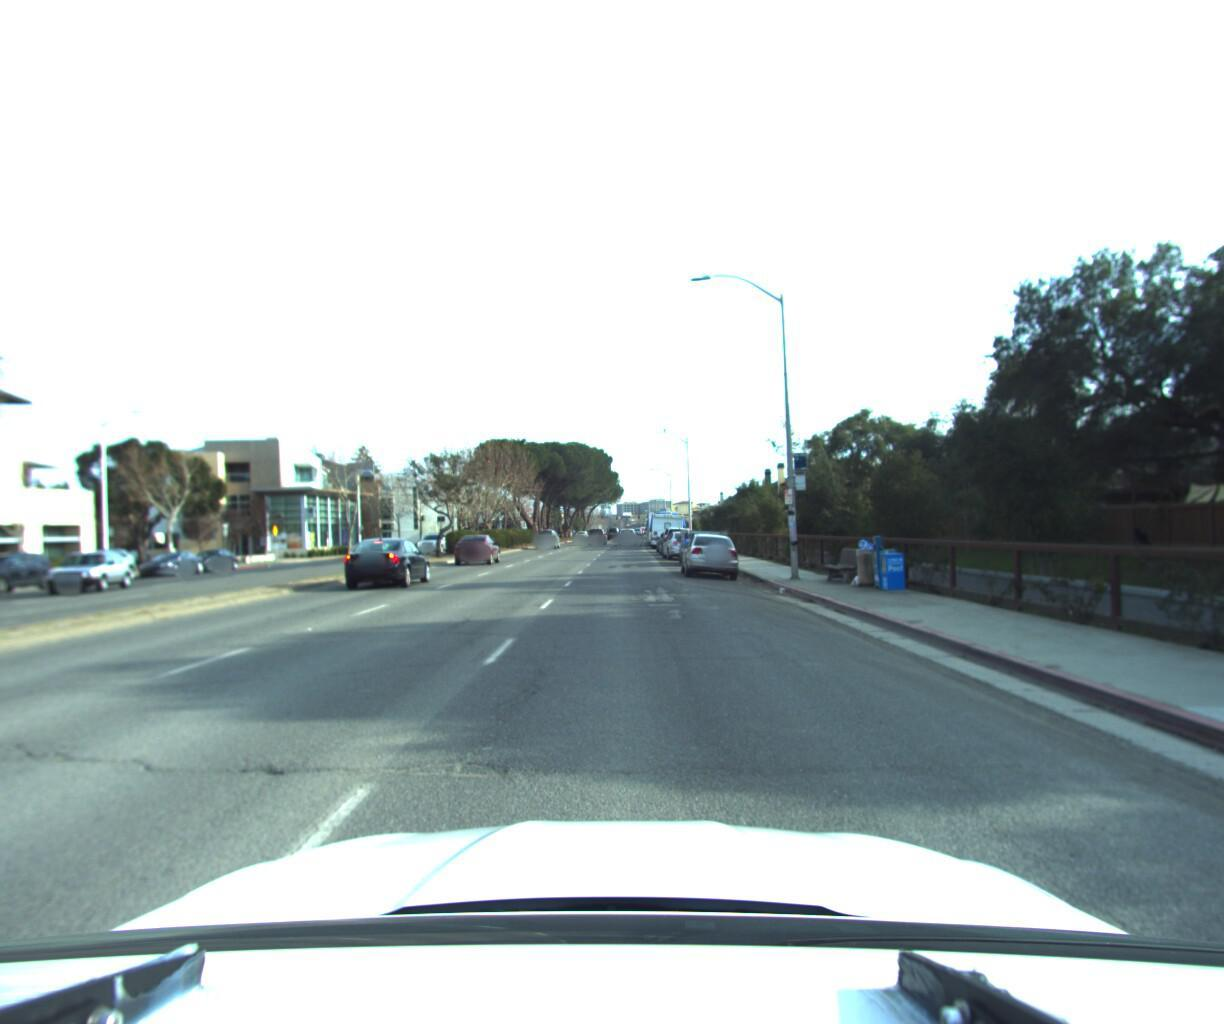car: (341, 530, 436, 588), (35, 551, 141, 600), (56, 547, 144, 588), (679, 528, 741, 578), (678, 522, 734, 568), (139, 548, 210, 579), (453, 527, 502, 560), (659, 527, 707, 560), (184, 547, 242, 574), (413, 530, 451, 552), (532, 526, 561, 548), (617, 524, 637, 543), (588, 525, 608, 543)
other_vehicle: (642, 498, 689, 546), (648, 505, 689, 547)
